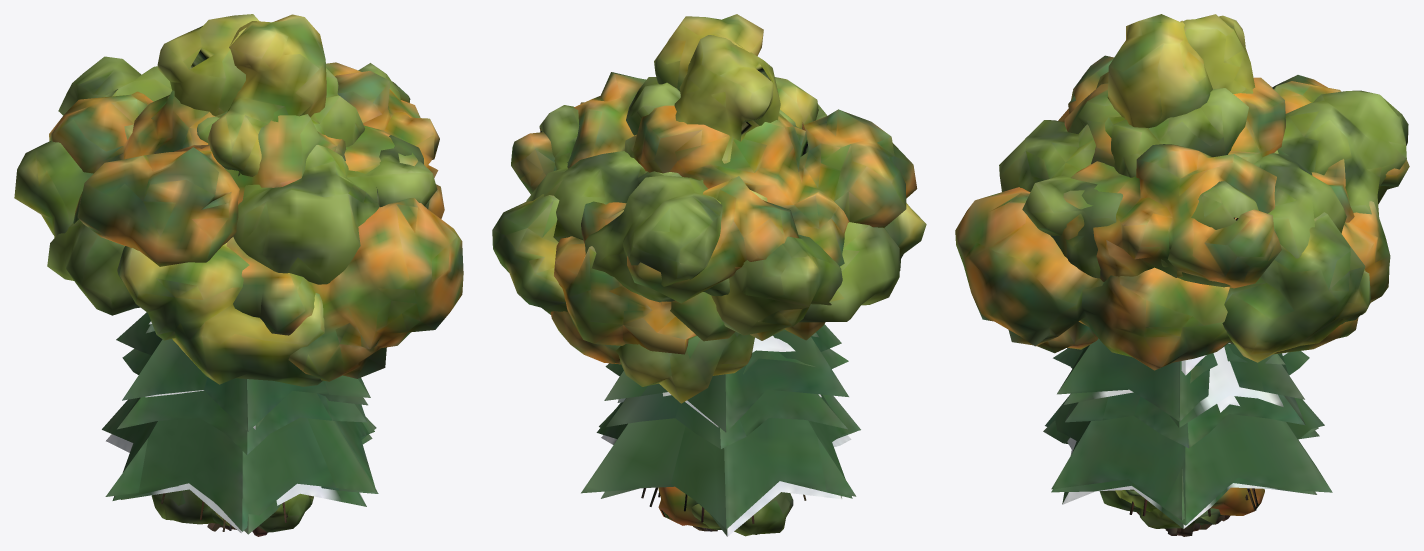
Rendered from env-flora.low.glb.
The picture shows the model from 3 angles, left to right: view 1: azimuth 30°, elevation 25°; view 2: azimuth 150°, elevation 25°; view 3: azimuth 270°, elevation 25°; orthographic projection. The views are drawn at different scales.
Parts seen in each view (by area): view 1: oak-a, oak-b, oak-green-a, fir-a, oak-green-b, birch-a, fir-b, birch-b, fir-snow-a, brush-d, brush-a; view 2: oak-a, oak-green-a, fir-a, oak-green-b, birch-b, fir-b, birch-a, oak-b, fir-snow-a, brush-d, brush-b; view 3: oak-green-a, oak-b, oak-a, fir-a, oak-green-b, birch-a, fir-b, birch-b, fir-snow-a, brush-b, brush-d.
Boxes of the visible parts, <box> form: oak-a: <box>49,62,439,536</box>; oak-b: <box>224,114,463,381</box>; oak-green-a: <box>47,56,437,529</box>; fir-a: <box>102,312,376,531</box>; oak-green-b: <box>14,124,324,386</box>; birch-a: <box>207,14,326,176</box>; fir-b: <box>105,348,378,534</box>; birch-b: <box>157,14,259,116</box>; fir-snow-a: <box>106,321,372,533</box>; brush-d: <box>151,489,313,524</box>; brush-a: <box>258,493,311,532</box>; oak-a: <box>511,72,917,354</box>; oak-green-a: <box>526,77,899,322</box>; fir-a: <box>581,324,860,529</box>; oak-green-b: <box>492,171,926,531</box>; birch-b: <box>674,35,780,163</box>; fir-b: <box>599,348,856,531</box>; birch-a: <box>654,14,818,128</box>; oak-b: <box>550,201,825,364</box>; fir-snow-a: <box>601,392,851,536</box>; brush-d: <box>691,492,793,536</box>; brush-b: <box>658,486,721,529</box>; oak-green-a: <box>999,88,1408,531</box>; oak-b: <box>955,83,1358,531</box>; oak-a: <box>1050,55,1409,535</box>; fir-a: <box>1045,338,1332,535</box>; oak-green-b: <box>1178,150,1370,536</box>; birch-a: <box>1096,14,1212,128</box>; fir-b: <box>1043,344,1318,520</box>; birch-b: <box>1183,14,1255,93</box>; fir-snow-a: <box>1062,347,1319,528</box>; brush-b: <box>1210,487,1264,515</box>; brush-d: <box>1139,508,1194,528</box>.
Bounding box in the file's own units: 2.85 × 3.7 × 3.03.
Materials: 1 (1 with a texture image).
